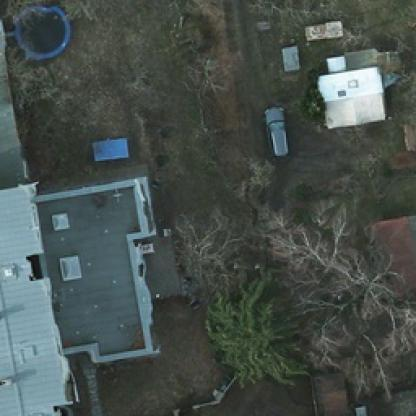car: (257, 106, 294, 158)
